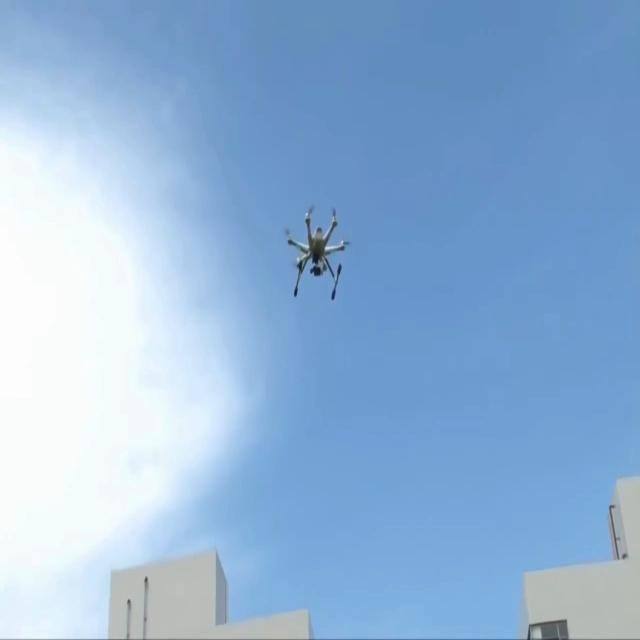drone: (284, 204, 350, 300)
